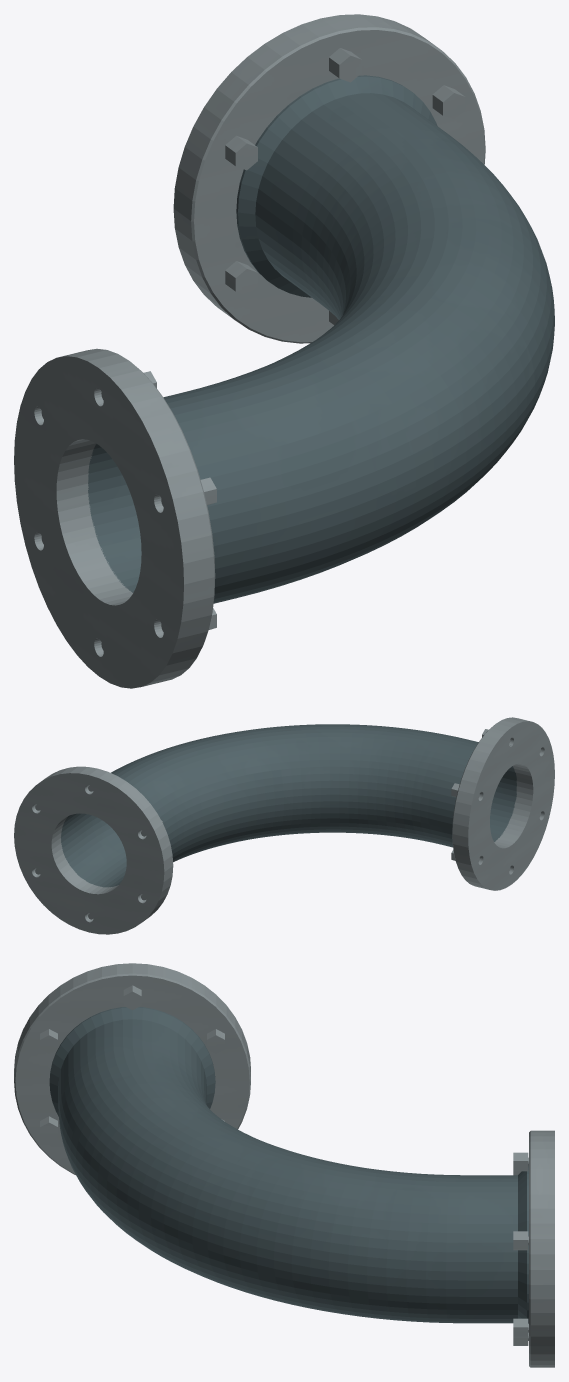
The model's file is AST-ENG-005.glb.
3 renders of one model, top to bottom at view 1: azimuth 30°, elevation 25°; view 2: azimuth 150°, elevation 25°; view 3: azimuth 270°, elevation 25°, orthographic. The views are drawn at different scales.
Parts seen in each view (by area): view 1: AST-ENG-005__static__staff_bluegrey_paint, AST-ENG-005__static__staff_zinc; view 2: AST-ENG-005__static__staff_bluegrey_paint, AST-ENG-005__static__staff_zinc; view 3: AST-ENG-005__static__staff_bluegrey_paint, AST-ENG-005__static__staff_zinc.
Boxes of the visible parts, x1,y1,x2,y2 form: AST-ENG-005__static__staff_bluegrey_paint: [88, 75, 554, 603]; AST-ENG-005__static__staff_zinc: [14, 14, 485, 688]; AST-ENG-005__static__staff_bluegrey_paint: [61, 724, 516, 887]; AST-ENG-005__static__staff_zinc: [14, 717, 554, 934]; AST-ENG-005__static__staff_bluegrey_paint: [49, 1007, 528, 1323]; AST-ENG-005__static__staff_zinc: [14, 963, 554, 1367].
Size of the model in its own units: 0.73 by 0.32 by 0.73.
Materials: 2 (2 with a texture image).
